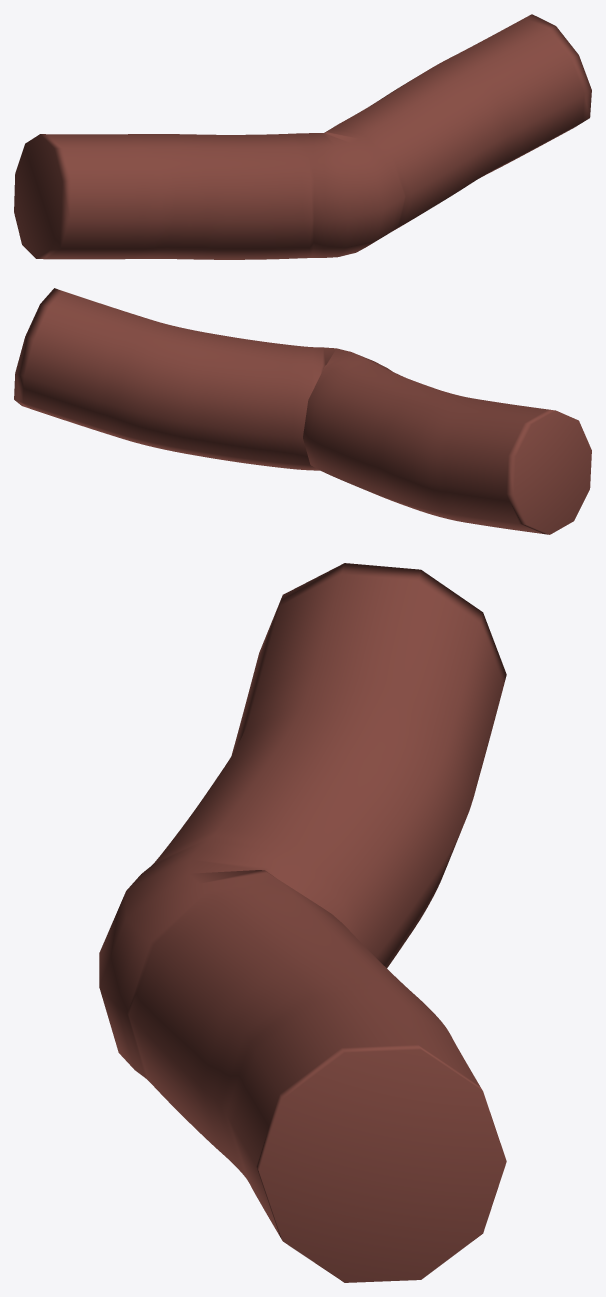
The model's file is 4HT-masculino.glb.
3 views of the same model, one above another, from view 1: azimuth 30°, elevation 25°; view 2: azimuth 150°, elevation 25°; view 3: azimuth 270°, elevation 25° (orthographic). The views are drawn at different scales.
Visible parts, largest first — view 1: mouth-relief; view 2: mouth-relief; view 3: mouth-relief.
Boxes of the visible parts, x1,y1,x2,y2 form: mouth-relief: (14, 14, 591, 259); mouth-relief: (14, 288, 591, 534); mouth-relief: (99, 563, 506, 1282).
Size of the model in its own units: 0.00646 by 0.00159 by 0.00212.
